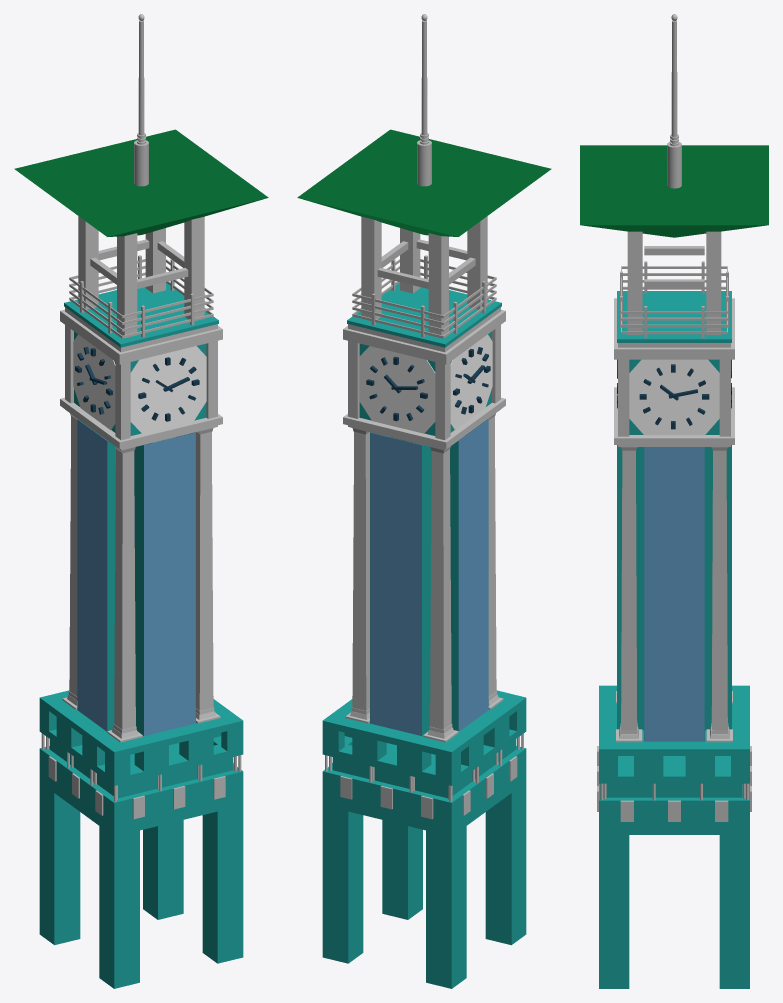
The model's file is clockTower.obj.
3 views of the same model, side by side, from view 1: azimuth 30°, elevation 25°; view 2: azimuth 150°, elevation 25°; view 3: azimuth 270°, elevation 25° (orthographic).
Parts seen in each view (by area): view 1: Box40, Line06, Box41, Box06, Box07, Box01, Rectangle3225, Line05, Rectangle3256, Rectangle3226, Rectangle3222, Box03 (+25 smaller); view 2: Box38, Line06, Box41, Box03, Box01, Box07, Rectangle3224, Line05, Rectangle25, Rectangle01, Rectangle24, Box06 (+25 smaller); view 3: Box39, Line06, Line05, Rectangle3271, Rectangle3223, Box06, Box03, Rectangle01, Rectangle3226, Rectangle09, Box14, Rectangle22 (+19 smaller).
Boxes of the visible parts, box(x1,y1,x2,y2) form: Box40: box(144, 432, 195, 735); Line06: box(14, 129, 268, 236); Box41: box(77, 419, 107, 731); Box06: box(202, 805, 243, 963); Box07: box(99, 826, 139, 988); Box01: box(39, 782, 80, 945); Rectangle3225: box(112, 446, 138, 738); Line05: box(78, 419, 195, 735); Rectangle3256: box(130, 346, 206, 433); Rectangle3226: box(196, 428, 215, 719); Rectangle3222: box(105, 718, 243, 785); Box03: box(143, 820, 183, 919); Box38: box(370, 432, 421, 735); Line06: box(297, 129, 551, 236); Box41: box(458, 419, 488, 731); Box03: box(322, 805, 363, 963); Box01: box(426, 826, 466, 988); Box07: box(485, 782, 526, 945); Rectangle3224: box(427, 446, 453, 738); Line05: box(370, 419, 487, 735); Rectangle25: box(359, 346, 435, 433); Rectangle01: box(350, 428, 369, 719); Rectangle24: box(322, 718, 460, 785); Box06: box(382, 820, 422, 919); Box39: box(644, 447, 704, 741); Line06: box(580, 145, 768, 237); Line05: box(617, 445, 731, 741); Rectangle3271: box(629, 359, 719, 435); Rectangle3223: box(599, 741, 749, 783); Box06: box(599, 835, 629, 988); Box03: box(719, 835, 749, 988); Rectangle01: box(710, 447, 729, 738); Rectangle3226: box(619, 447, 638, 738); Rectangle09: box(617, 291, 731, 342); Box14: box(629, 797, 719, 834); Rectangle22: box(606, 730, 742, 797).
Size of the model in its own units: 126968 by 699661 by 126968.
